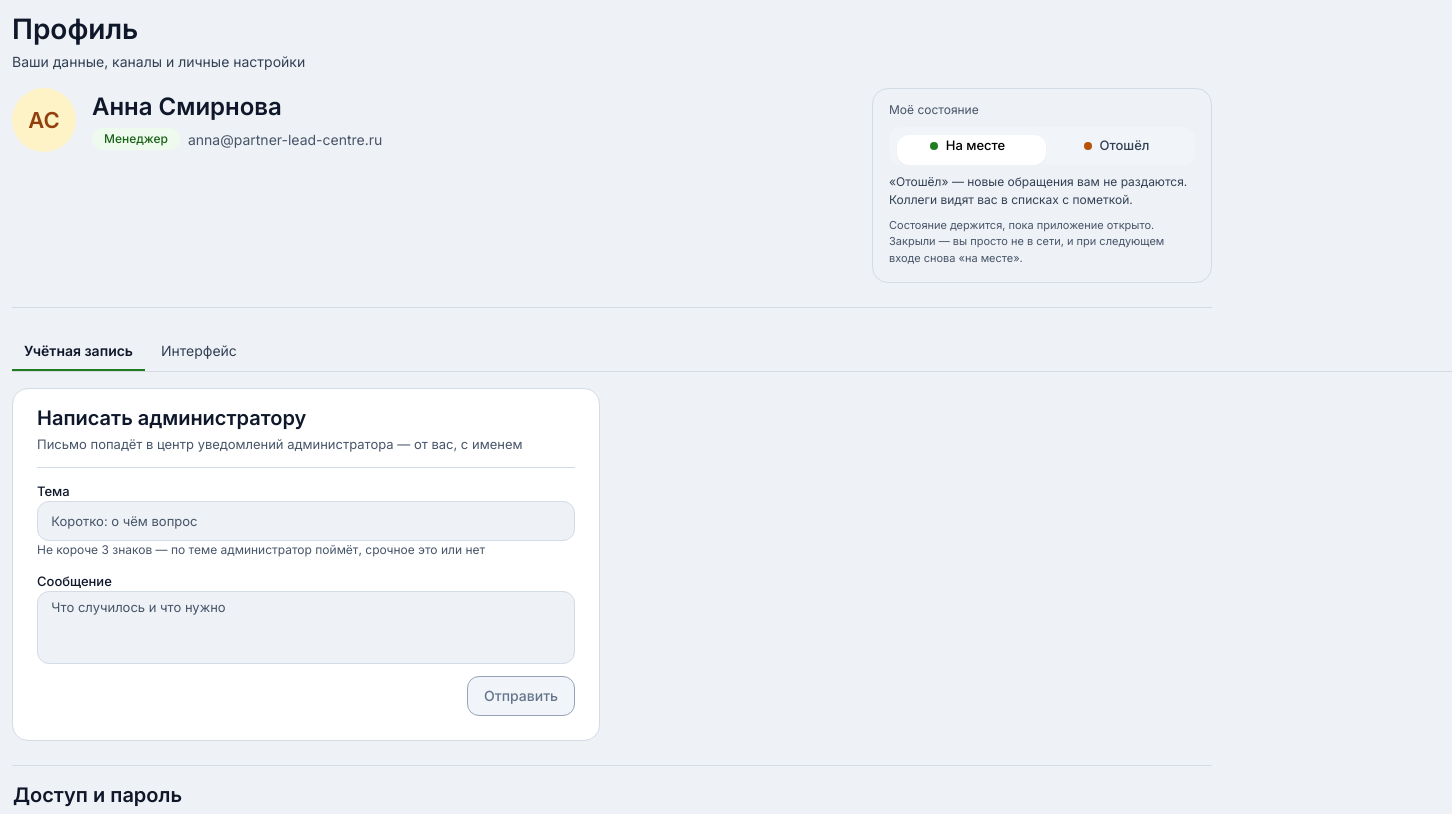
Форма «Написать администратору» (14 §2.2) › отправляет обращение в POST /support/message и подтверждает это человеку
In the field labelled "Тема": (306, 521) [37,501,575,541], type "Не работает отправка"
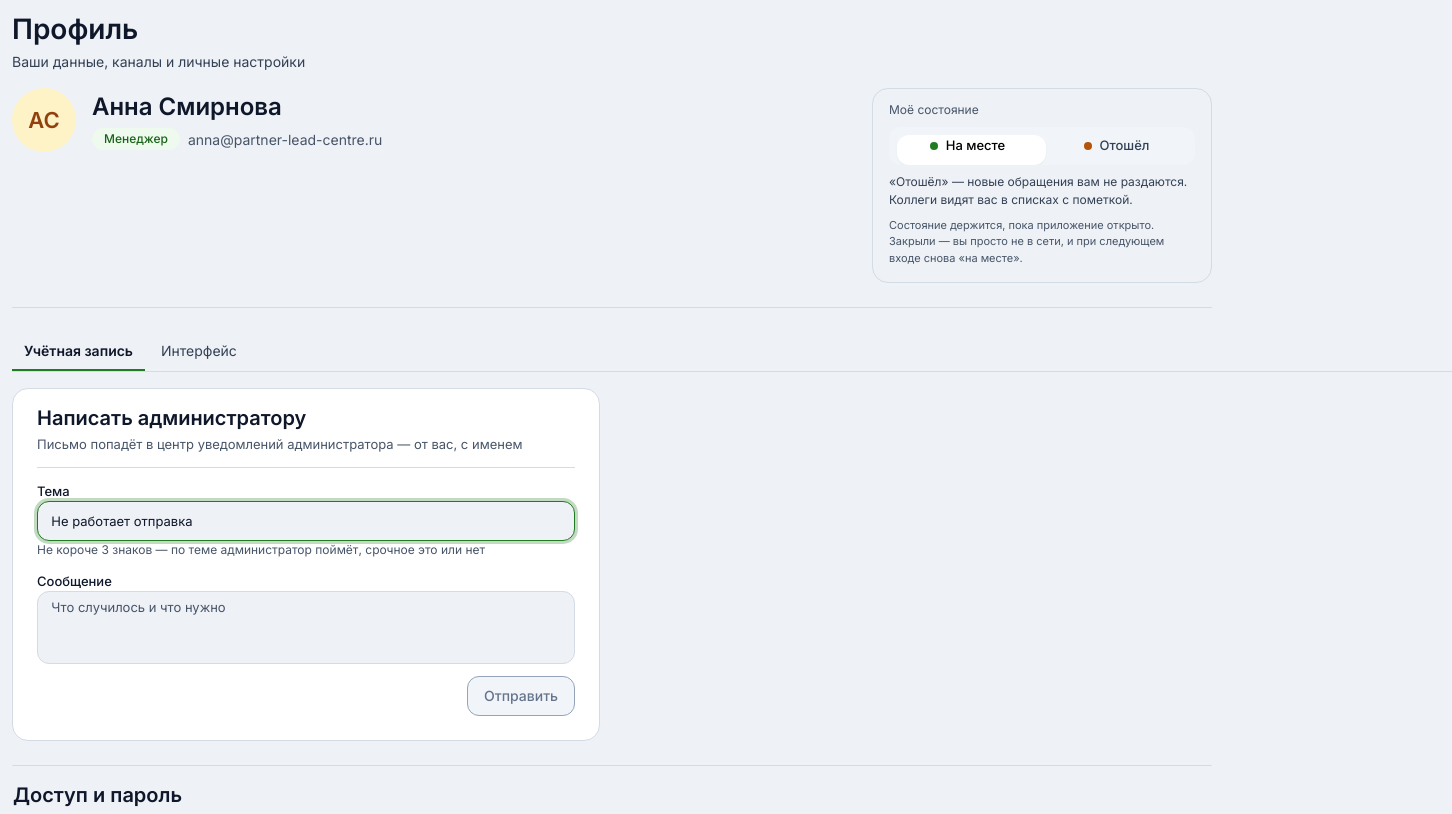
In the text box labelled "Сообщение": (306, 628) [37,591,575,664], type "Второй день не уходят сообщения из диалога"
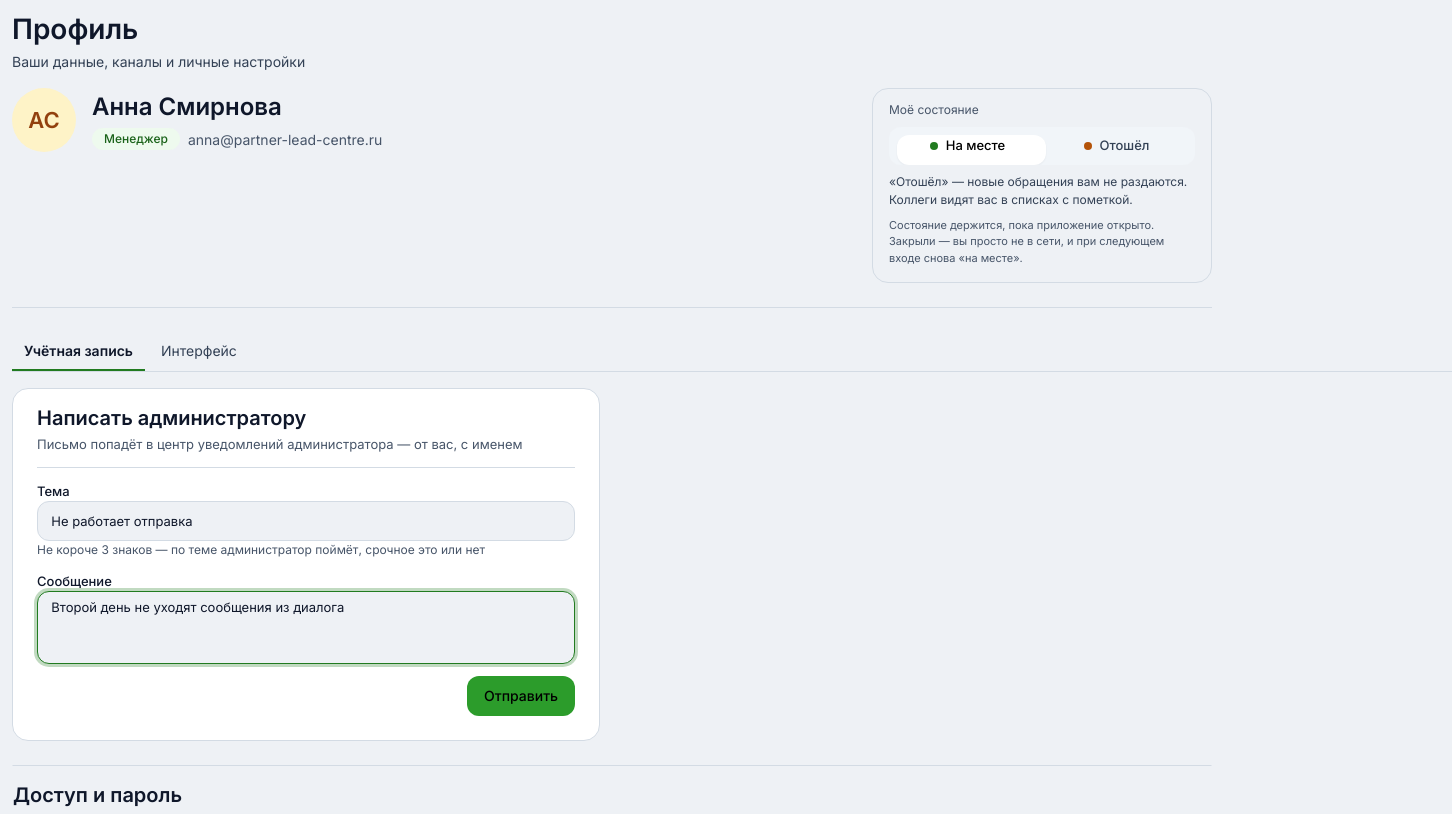
Click the button "Отправить": (521, 696) [467,676,575,716]
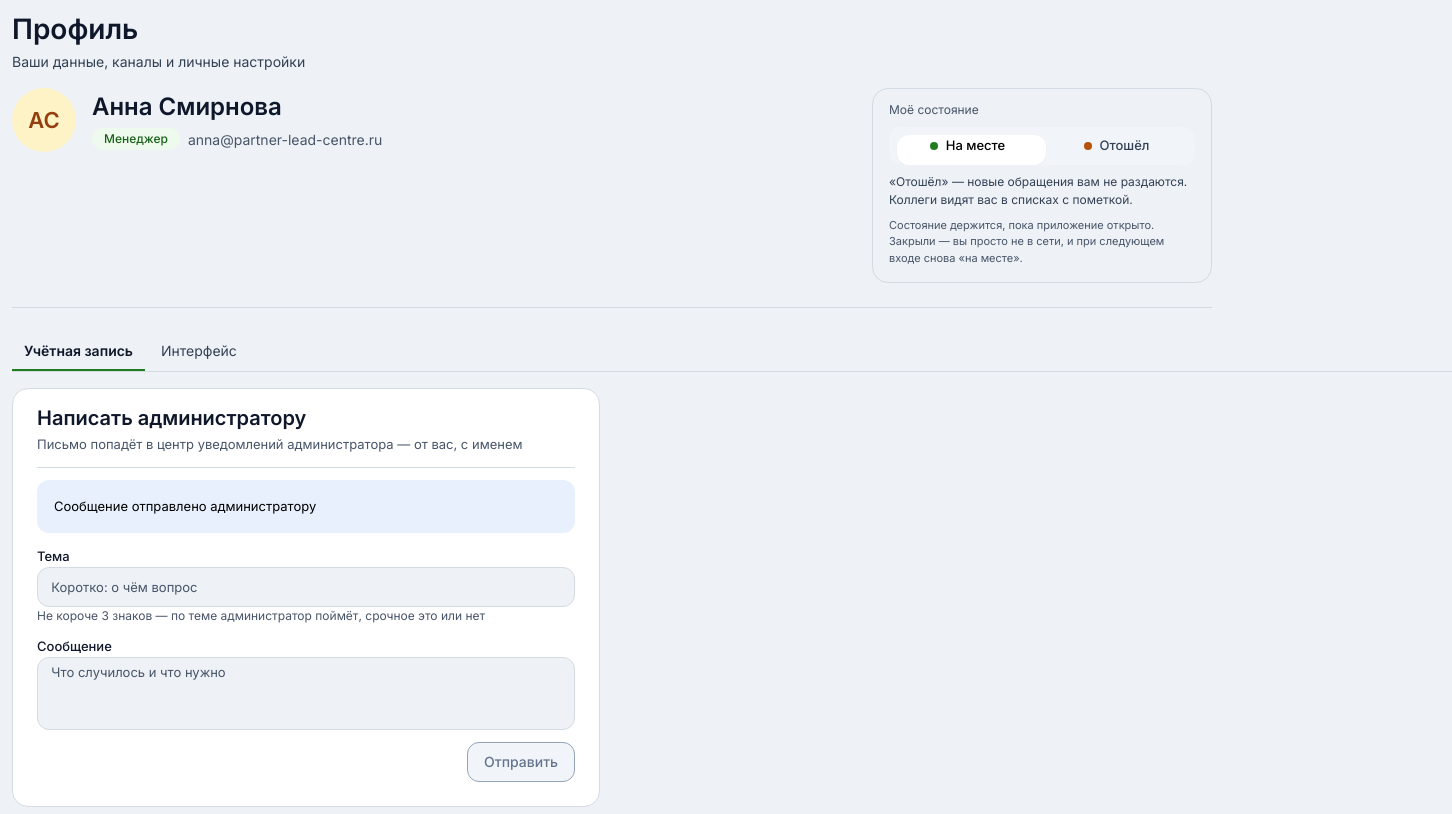
Result: the text "Сообщение отправлено администратору" is shown at [54,498,316,514]
Result: the field labelled "Тема" is empty at [37,567,575,607]
